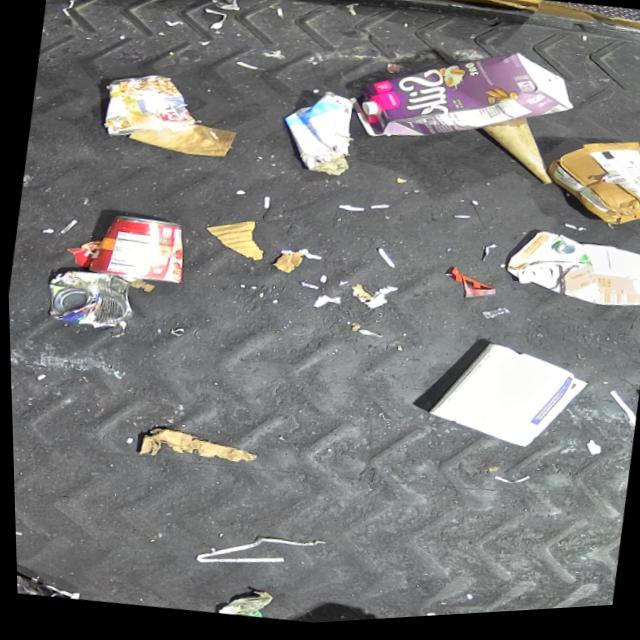can: (99, 65, 204, 150), (86, 208, 193, 291), (40, 263, 140, 336)
non_white_jug: (339, 30, 583, 173), (501, 226, 640, 323)
